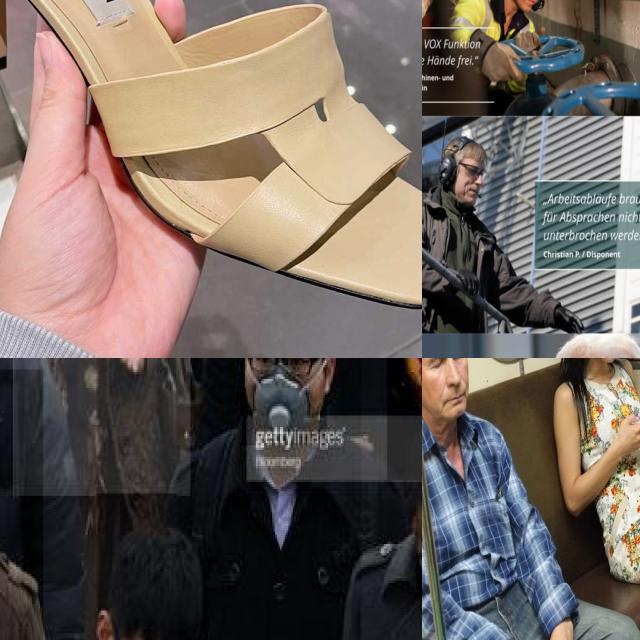Ear-protection: (437, 135, 490, 211), (502, 0, 558, 19)
No_Ear-Protection: (320, 358, 338, 397)
Sandals: (0, 0, 422, 331)
face_mask: (241, 358, 326, 445)
glasses: (242, 358, 320, 378)
person: (177, 358, 363, 640), (0, 358, 99, 640), (12, 358, 190, 495), (0, 369, 45, 640)
